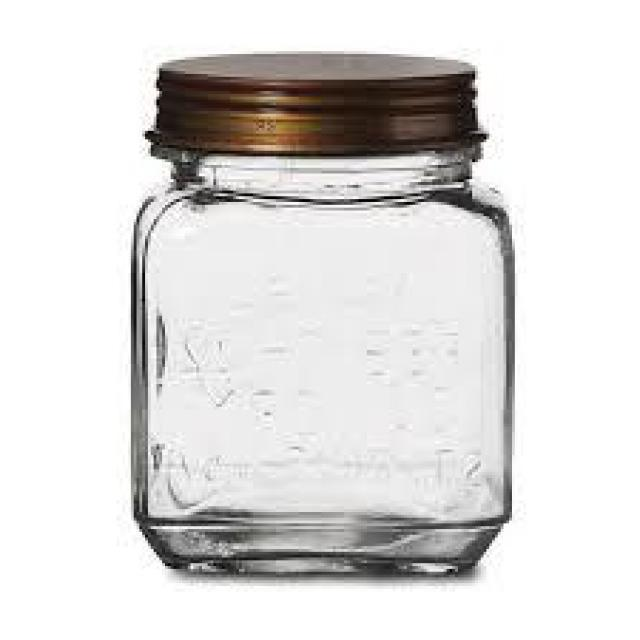glass: (126, 46, 520, 588)
